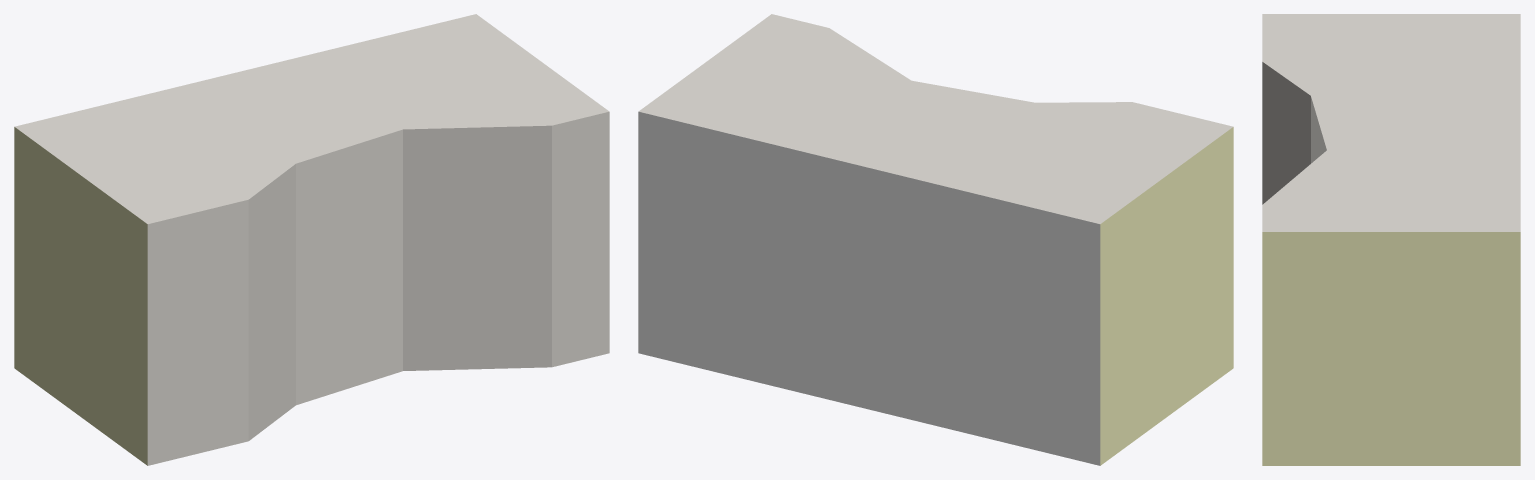
File: Cracked_Straight_2x2_3_Mid.glb
3 views of the same model, side by side, from view 1: azimuth 30°, elevation 25°; view 2: azimuth 150°, elevation 25°; view 3: azimuth 270°, elevation 25° (orthographic). The views are drawn at different scales.
Parts seen in each view (by area): view 1: Cracked_Straight_2x2_3_Mid; view 2: Cracked_Straight_2x2_3_Mid; view 3: Cracked_Straight_2x2_3_Mid.
Boxes of the visible parts, box(x1,y1,x2,y2) form: Cracked_Straight_2x2_3_Mid: box(14, 14, 609, 465); Cracked_Straight_2x2_3_Mid: box(638, 14, 1233, 465); Cracked_Straight_2x2_3_Mid: box(1262, 14, 1520, 465).
Bounding box in the file's own units: 200 × 100 × 100.
